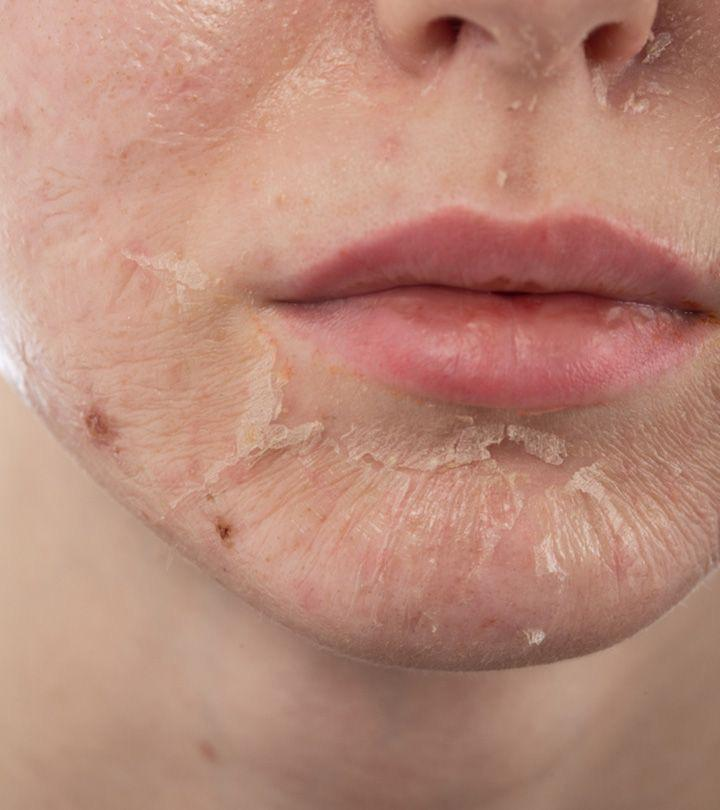Dry-Skin: (416, 460, 540, 572), (546, 24, 682, 102), (250, 396, 350, 496), (64, 240, 200, 302), (362, 548, 452, 634), (80, 32, 190, 98), (596, 490, 696, 552), (228, 526, 314, 586), (158, 378, 228, 450), (10, 44, 70, 128), (56, 164, 170, 206), (206, 134, 306, 180), (284, 16, 370, 68), (364, 104, 502, 134), (68, 366, 136, 426), (642, 170, 684, 238), (48, 128, 64, 266), (8, 126, 18, 262), (224, 30, 268, 56), (494, 610, 542, 632), (622, 112, 656, 128), (228, 90, 286, 98), (252, 196, 306, 202), (452, 634, 484, 640), (666, 410, 714, 414), (486, 174, 546, 176)
